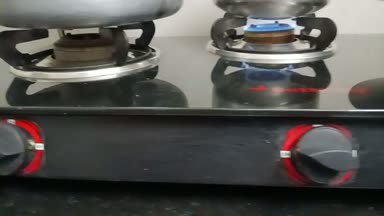flame_gas_on: (225, 15, 358, 189)
